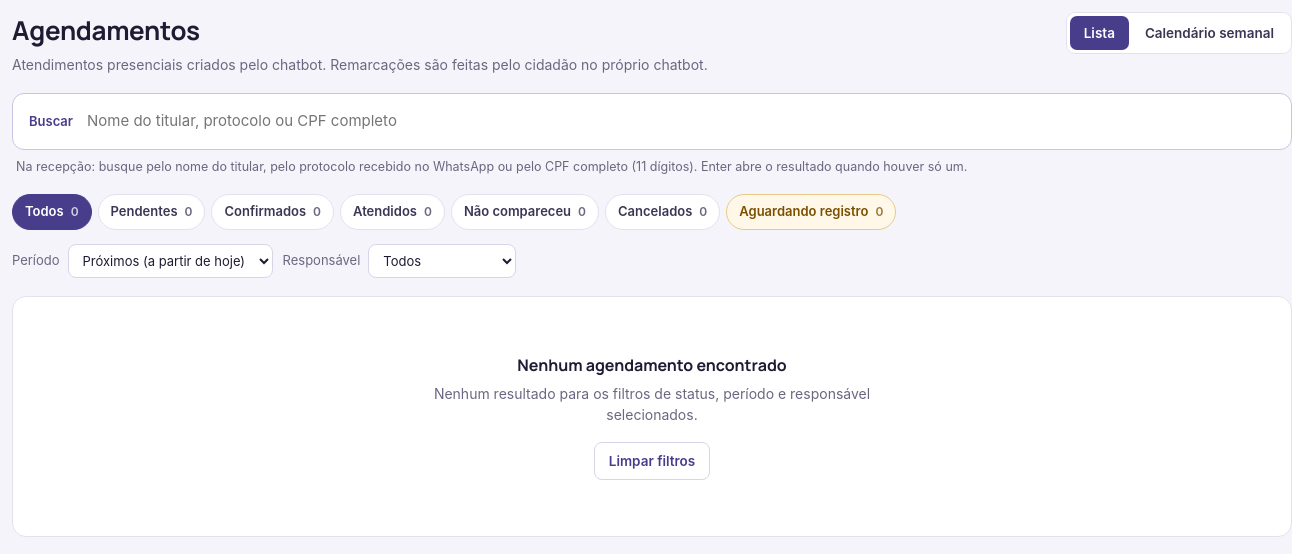
Test: Appointments.page: calendário › esconde o Período no calendário e o mostra na lista
expect the dropdown labelled "Período" is shown: met, box left=68, top=244, right=272, bottom=278
Click the button "Calendário semanal" at (1209, 33), box left=1131, top=16, right=1288, bottom=50
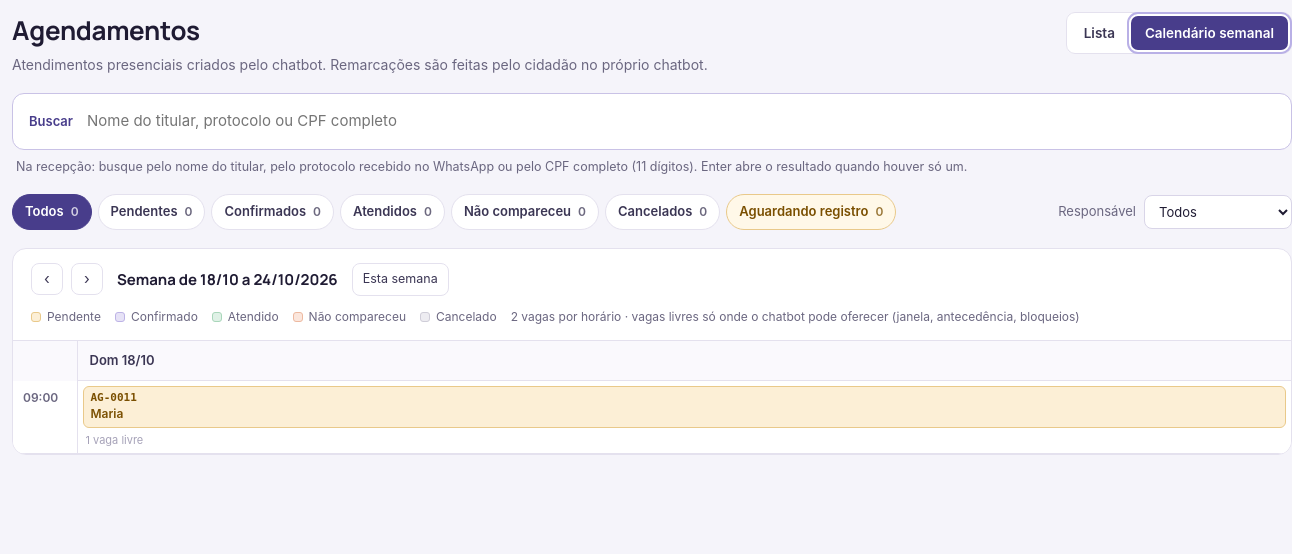
expect the table is shown: met, box left=13, top=340, right=1291, bottom=454
expect the label "Período" is gone: met
Click the button "Lista" at (1099, 33), box left=1070, top=16, right=1129, bottom=50
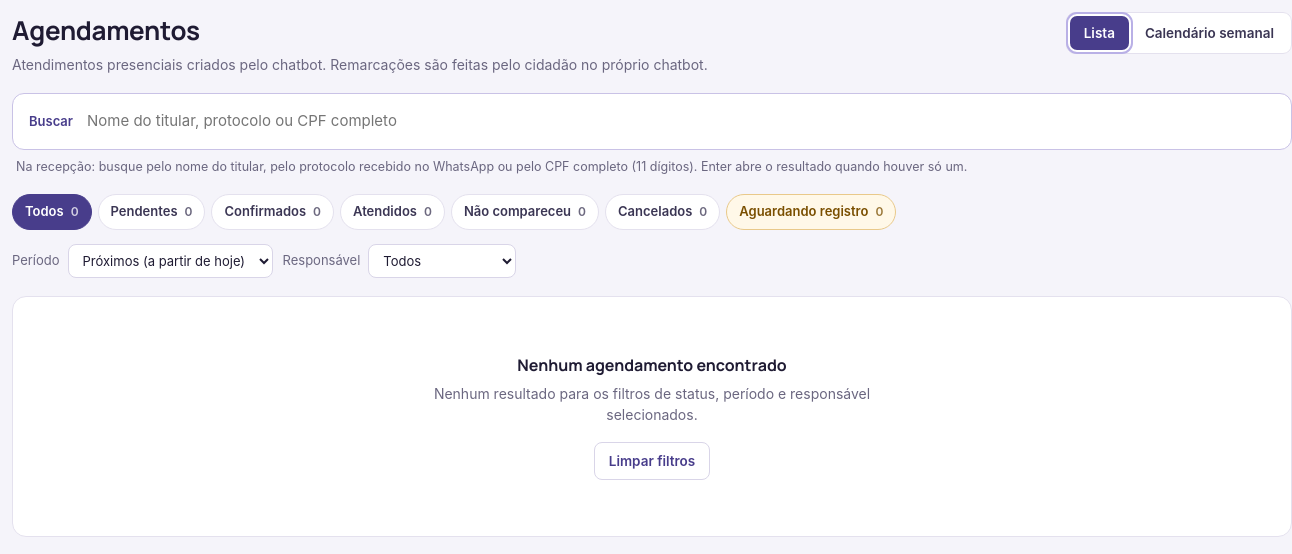
expect the dropdown labelled "Período" is shown: met, box left=68, top=244, right=272, bottom=278
